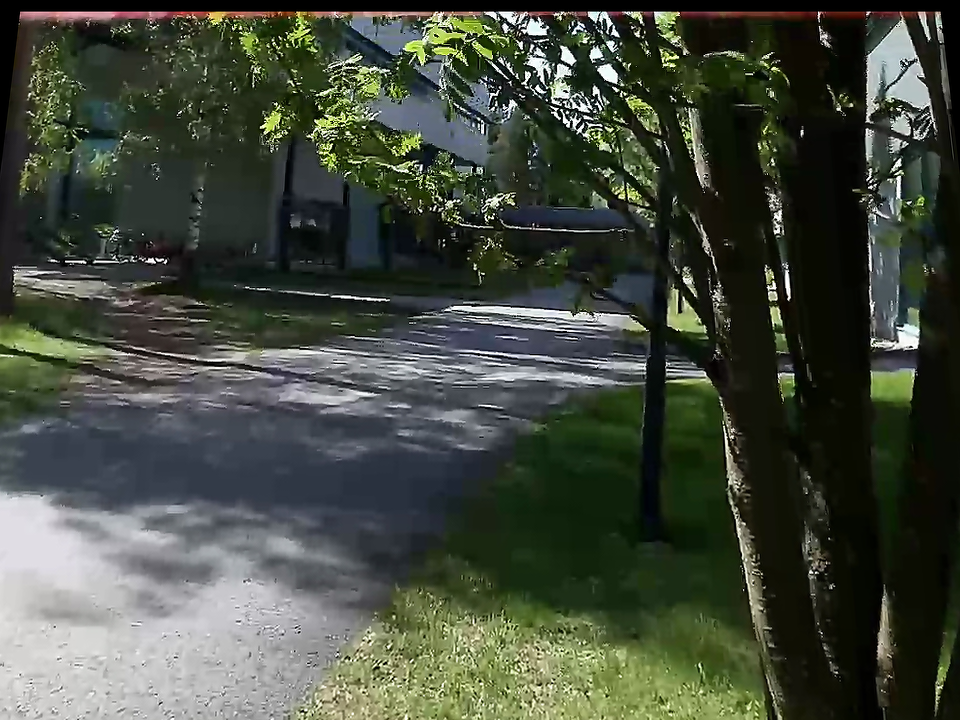branch: (549, 245, 637, 313), (640, 309, 689, 354), (603, 286, 653, 326), (673, 328, 711, 372)
trunk: (674, 33, 955, 712)
